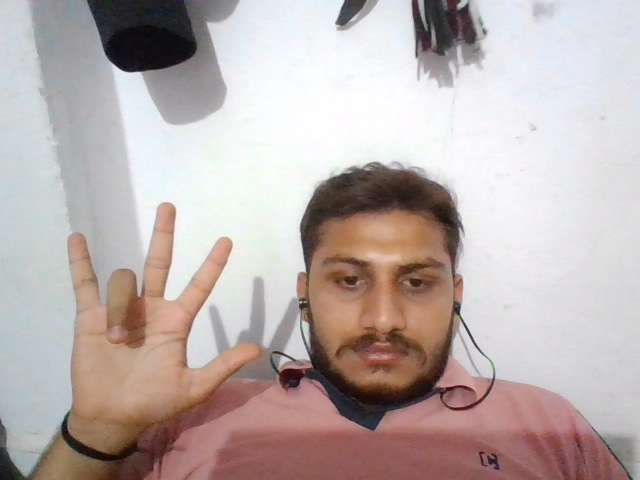ILoveYou: (63, 190, 262, 426)
